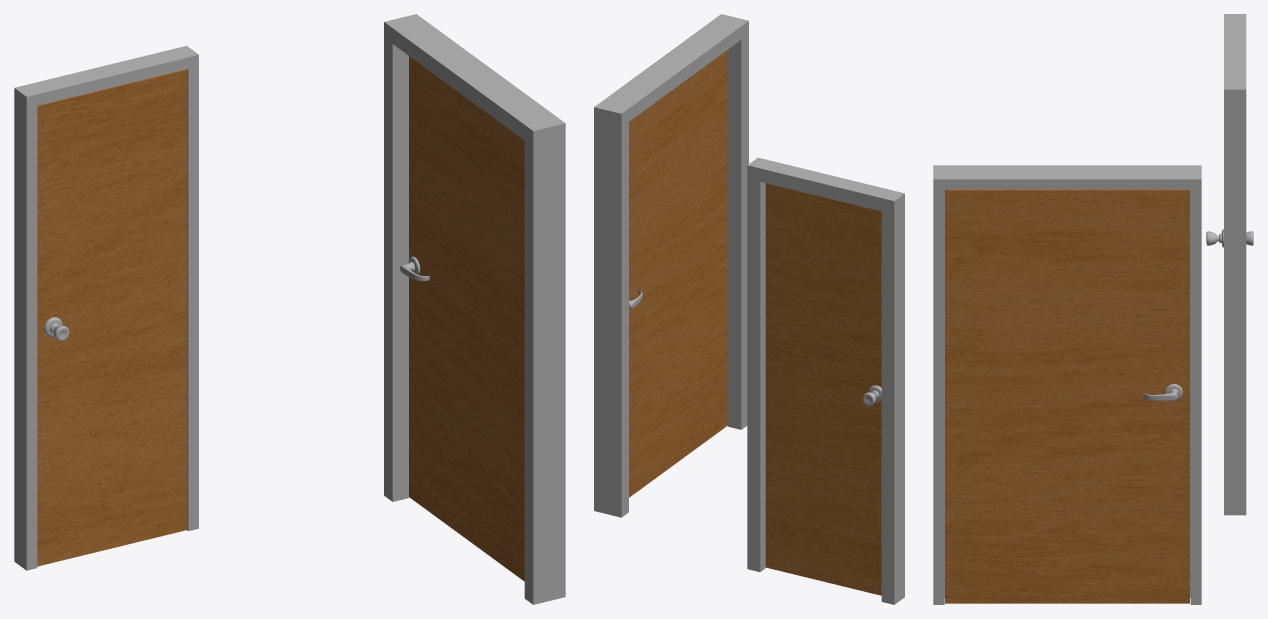
File: Doors.fbx
3 views of the same model, side by side, from view 1: azimuth 30°, elevation 25°; view 2: azimuth 150°, elevation 25°; view 3: azimuth 270°, elevation 25° (orthographic). The views are drawn at different scales.
Parts seen in each view (by area): view 1: Door.001, Door, DoorFrame, DoorFrame.001; view 2: Door.001, Door, DoorFrame, DoorFrame.001; view 3: Door, DoorFrame, DoorFrame.001.
Boxes of the visible parts, x1,y1,x2,y2 form: Door.001: (37, 69, 187, 566); Door: (409, 56, 524, 581); DoorFrame: (384, 14, 565, 604); DoorFrame.001: (14, 46, 198, 570); Door.001: (765, 183, 881, 595); Door: (629, 50, 727, 497); DoorFrame: (594, 14, 748, 517); DoorFrame.001: (747, 157, 904, 604); Door: (945, 189, 1189, 603); DoorFrame: (933, 165, 1201, 604); DoorFrame.001: (1224, 14, 1246, 515).
Bounding box in the file's own units: 181 × 210 × 143.
Materials: 2 (1 with a texture image).
